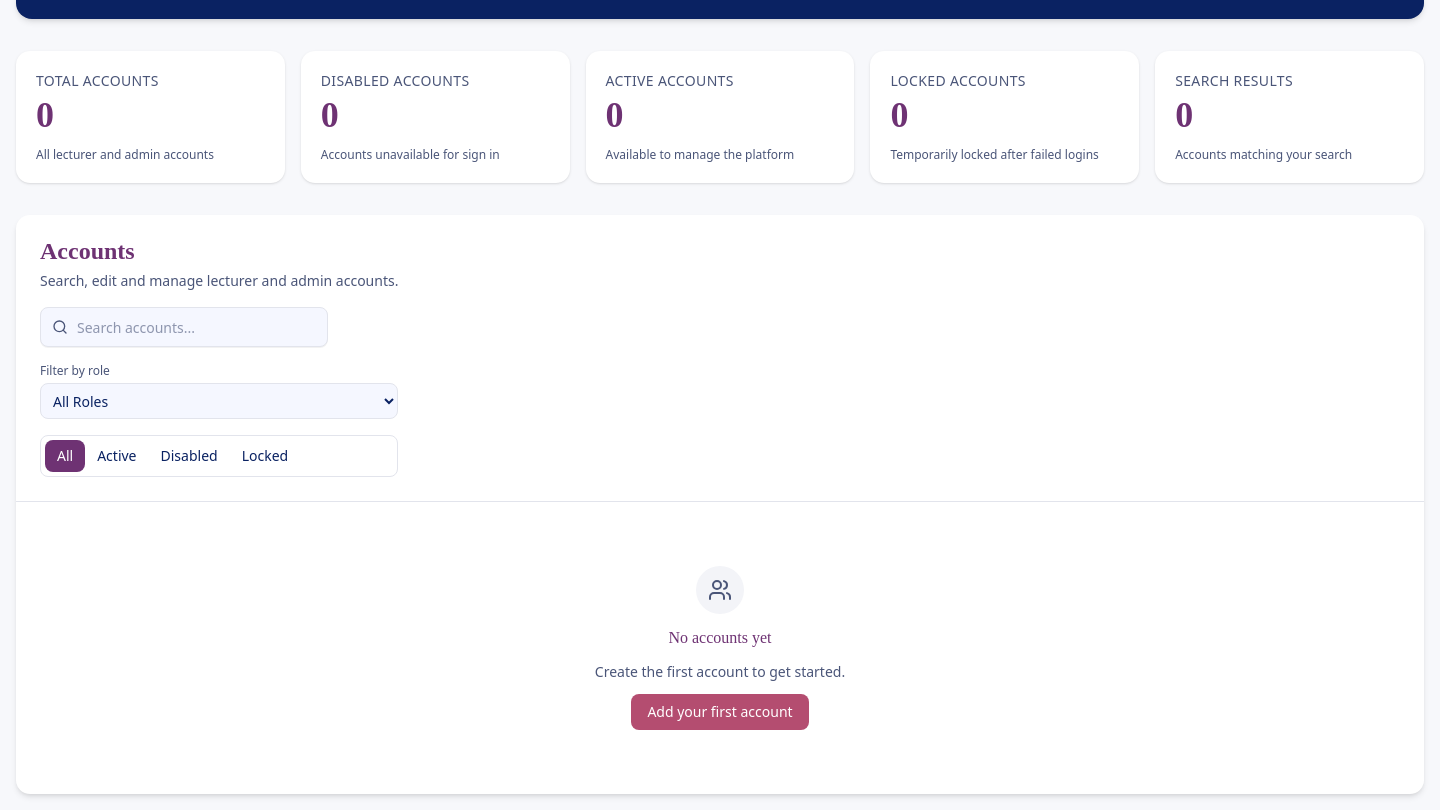
Test case: LecturersPage › shows the empty and no-match states
(page scrolled)
Expected: the heading "No accounts yet" is shown, [668,626,772,650]
Click the button "Add your first account": point(720, 712) [631,694,809,730]
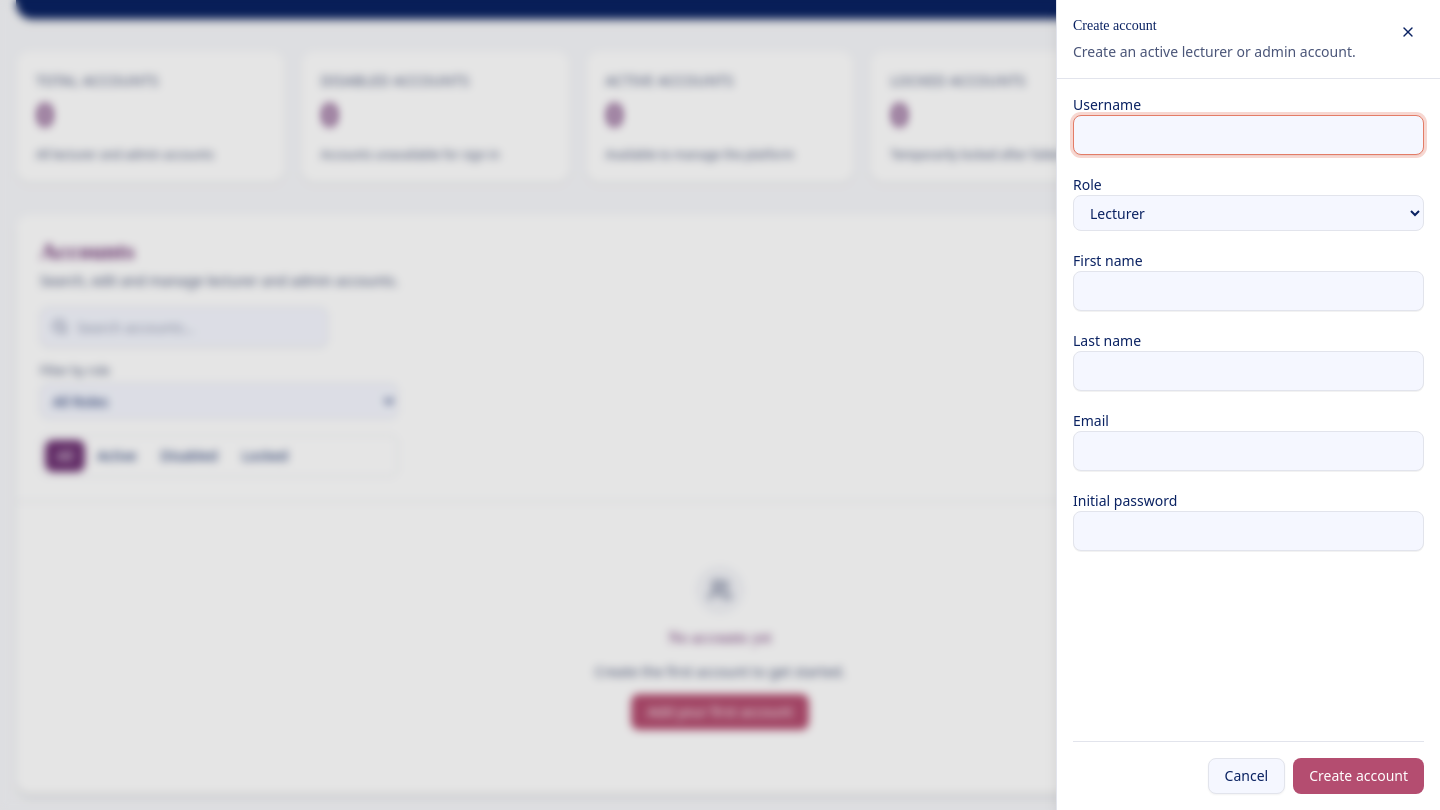
Now the heading "Create account" is shown, box [1073,18,1157,33]
